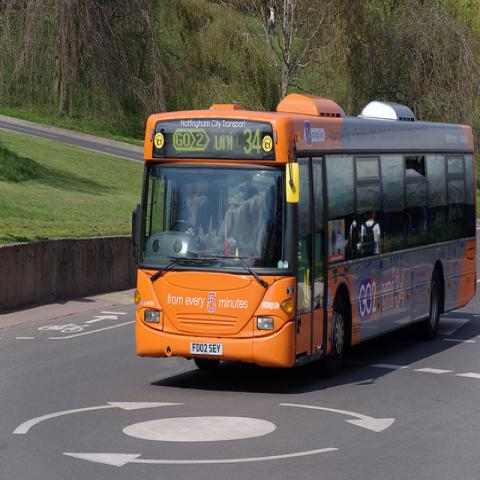bus: (129, 96, 478, 374)
